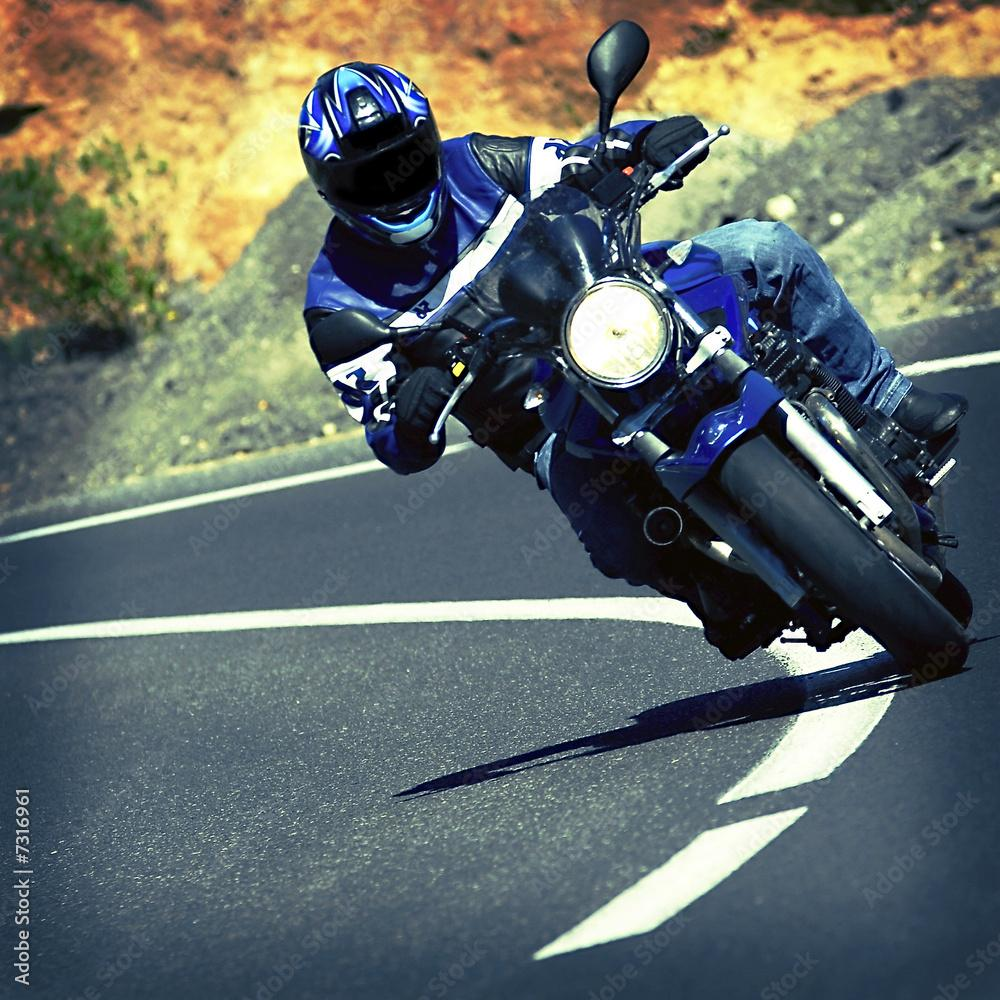helmet: (296, 60, 451, 258)
